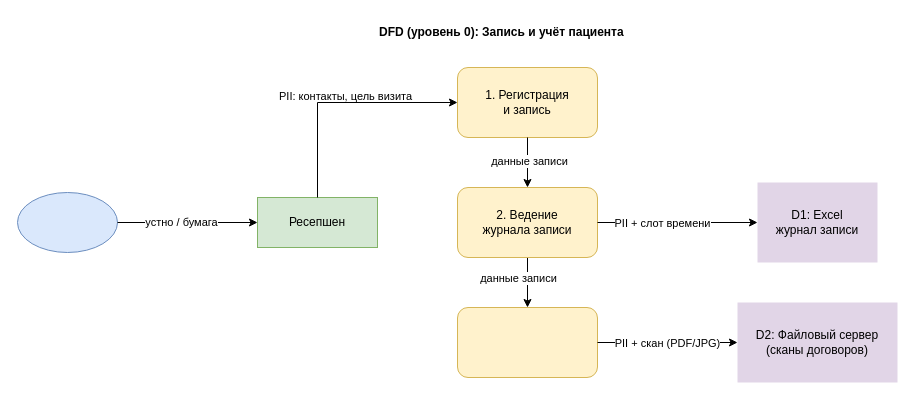
The diagram is 915 pixels wide and 400 high, and some of its shapes have lost their labels. Here are the shapes that lost their labels. From the top down, the centre of each, then its label:
pixel 67 222: Пациент
pixel 527 342: 3. Оформление договора (скан)
